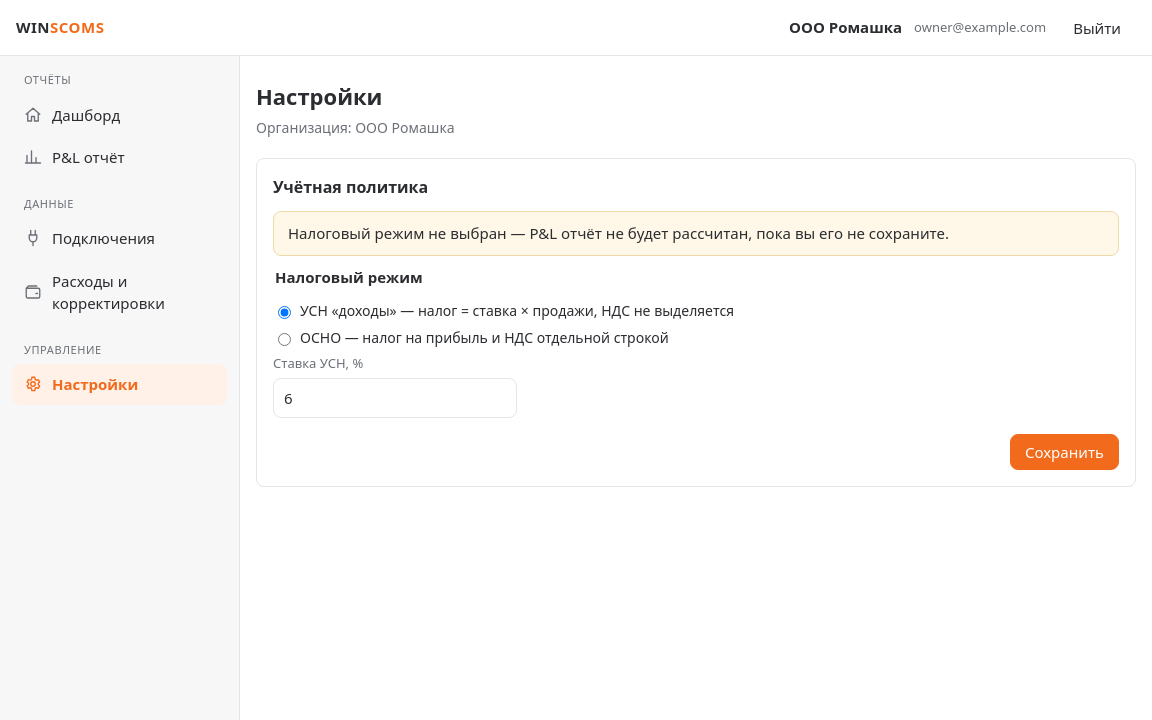
настройки › если политика не задана — предупреждение; сохранение УСН отправляет ставку
Expected: the text "Налоговый режим не выбран" is shown, [288,223,949,243]
Click the button "Сохранить".
click(1064, 452)  # box [1010,434,1119,470]
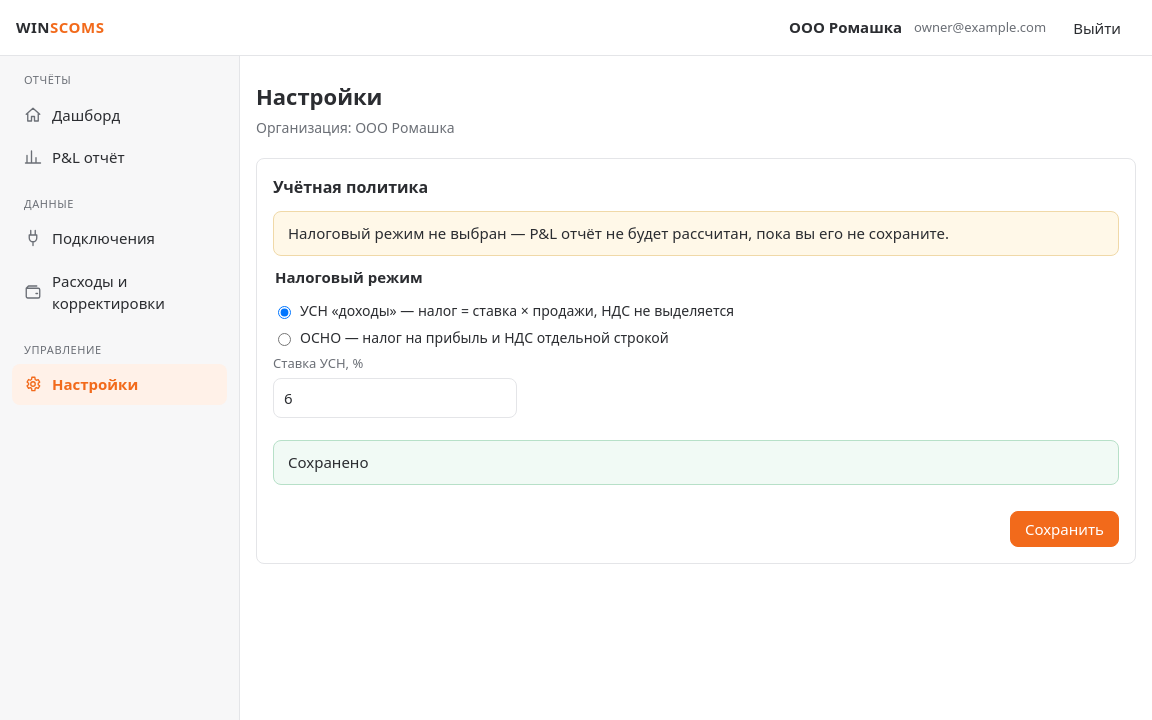
Result: the text "Сохранено" is shown at [273,440,1119,484]
